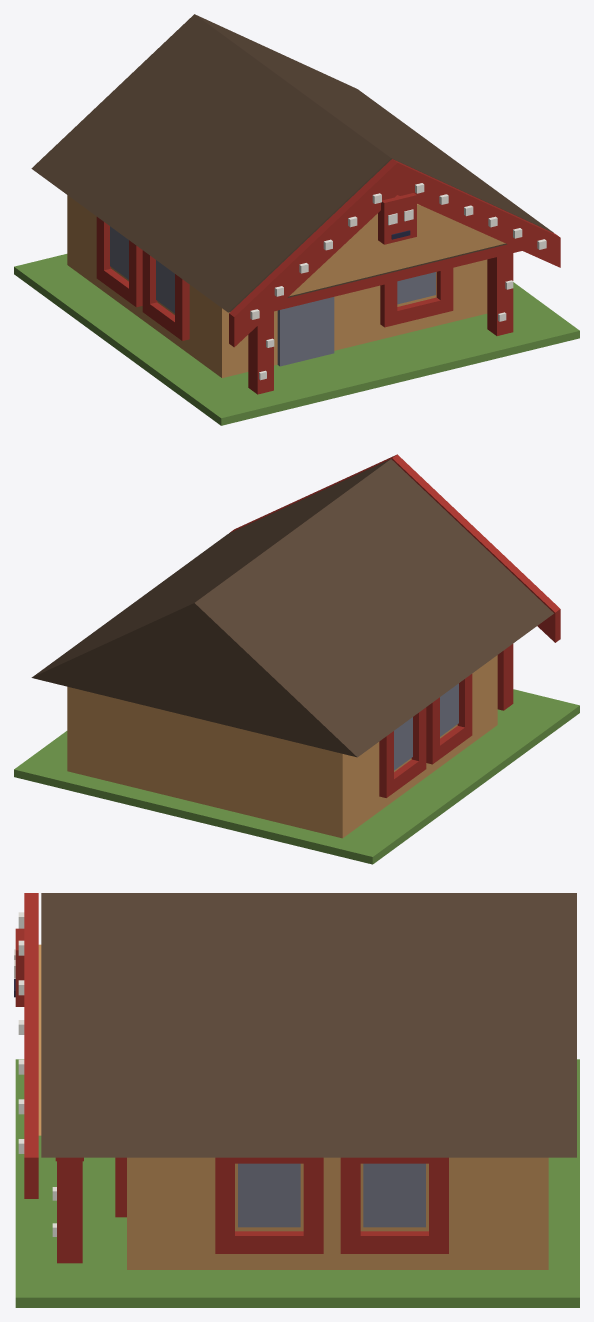
Rendered from house-1x1-1f-whare-a.glb.
3 views of the same model, one above another, from view 1: azimuth 30°, elevation 25°; view 2: azimuth 150°, elevation 25°; view 3: azimuth 270°, elevation 25° (orthographic). The views are drawn at different scales.
Visible parts, largest first — view 1: house-1x1-1f-whare-a; view 2: house-1x1-1f-whare-a; view 3: house-1x1-1f-whare-a.
Boxes of the visible parts, x1=… form: house-1x1-1f-whare-a: x1=14, y1=14, x2=579, y2=425; house-1x1-1f-whare-a: x1=14, y1=454, x2=579, y2=864; house-1x1-1f-whare-a: x1=14, y1=893, x2=579, y2=1307.
Bounding box in the file's own units: 0.99 × 0.5725 × 0.993.
Materials: 1 (1 with a texture image).
